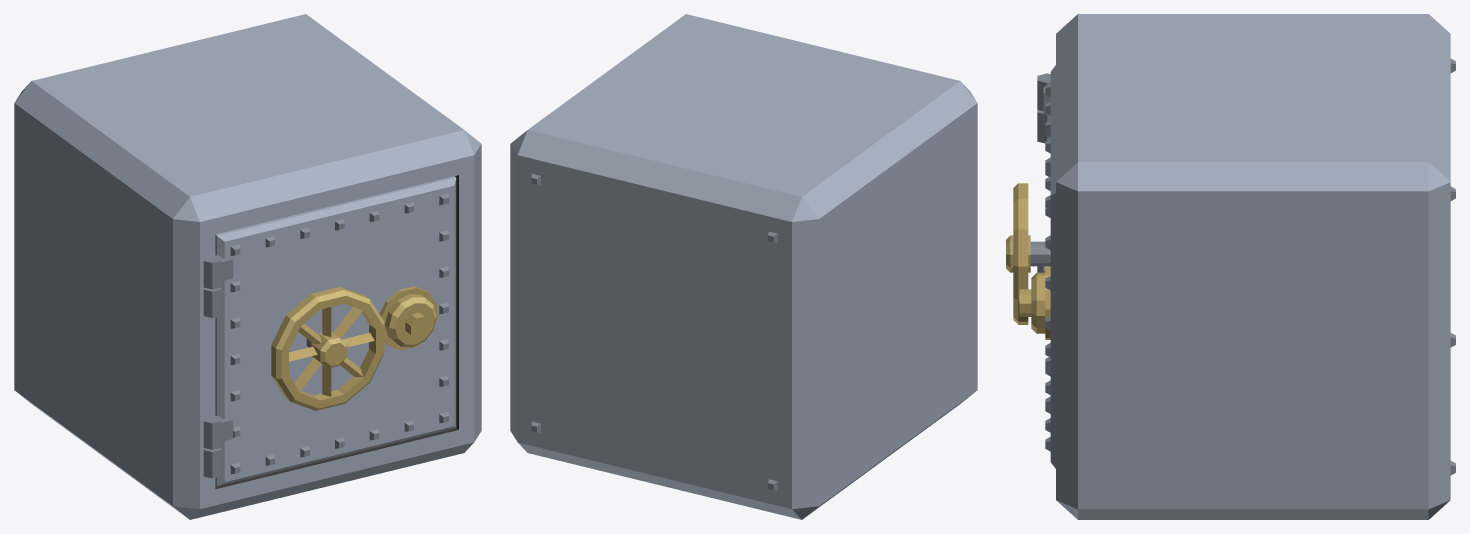
The model's file is iron-vault-safe-8b8f29.glb.
The picture shows the model from 3 angles, left to right: view 1: azimuth 30°, elevation 25°; view 2: azimuth 150°, elevation 25°; view 3: azimuth 270°, elevation 25°; orthographic projection. The views are drawn at different scales.
Parts seen in each view (by area): view 1: body, door-slab, wheel-brass, dial-brass, interior; view 2: body; view 3: body, door-slab, wheel-brass, dial-brass.
Boxes of the visible parts, left/top/right/bottom form: body: left=14, top=14, right=481, bottom=519; door-slab: left=203, top=176, right=456, bottom=486; wheel-brass: left=271, top=287, right=384, bottom=410; dial-brass: left=385, top=294, right=436, bottom=347; interior: left=215, top=175, right=458, bottom=489; body: left=510, top=14, right=977, bottom=519; body: left=1037, top=14, right=1455, bottom=519; door-slab: left=1030, top=65, right=1055, bottom=468; wheel-brass: left=1006, top=183, right=1030, bottom=324; dial-brass: left=1019, top=272, right=1045, bottom=333.
Bounding box in the file's own units: 0.9 × 0.9 × 1.03.
